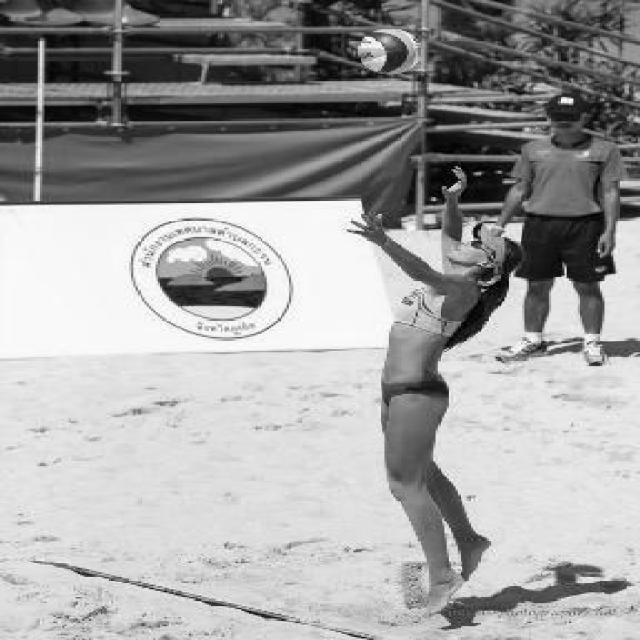volleyball: (358, 30, 418, 75)
